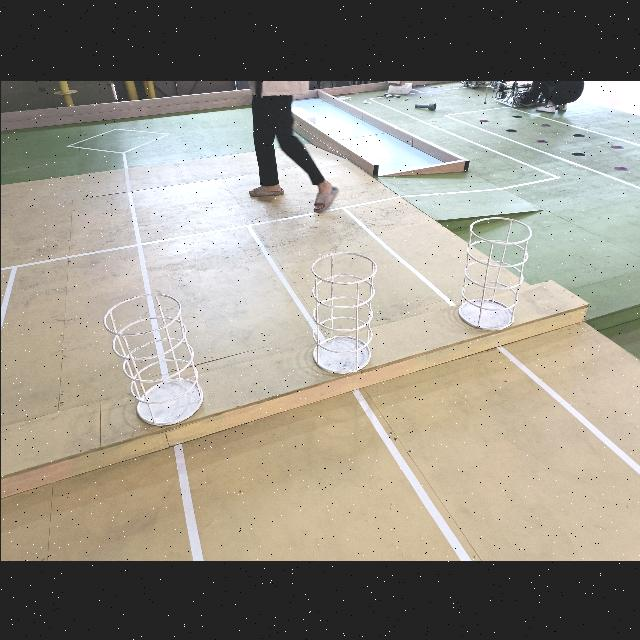S: (101, 290, 205, 427), (307, 250, 382, 377), (454, 216, 534, 332)
